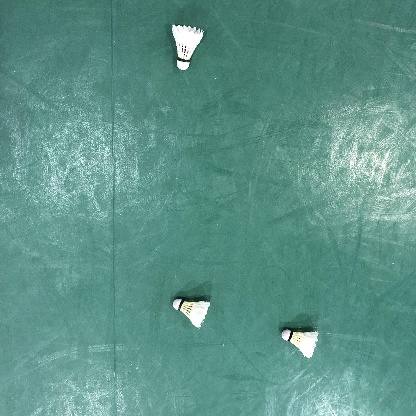ball_single: (172, 25, 204, 70), (173, 299, 210, 329), (281, 329, 319, 358)
